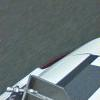Boat: (2, 34, 99, 100)
